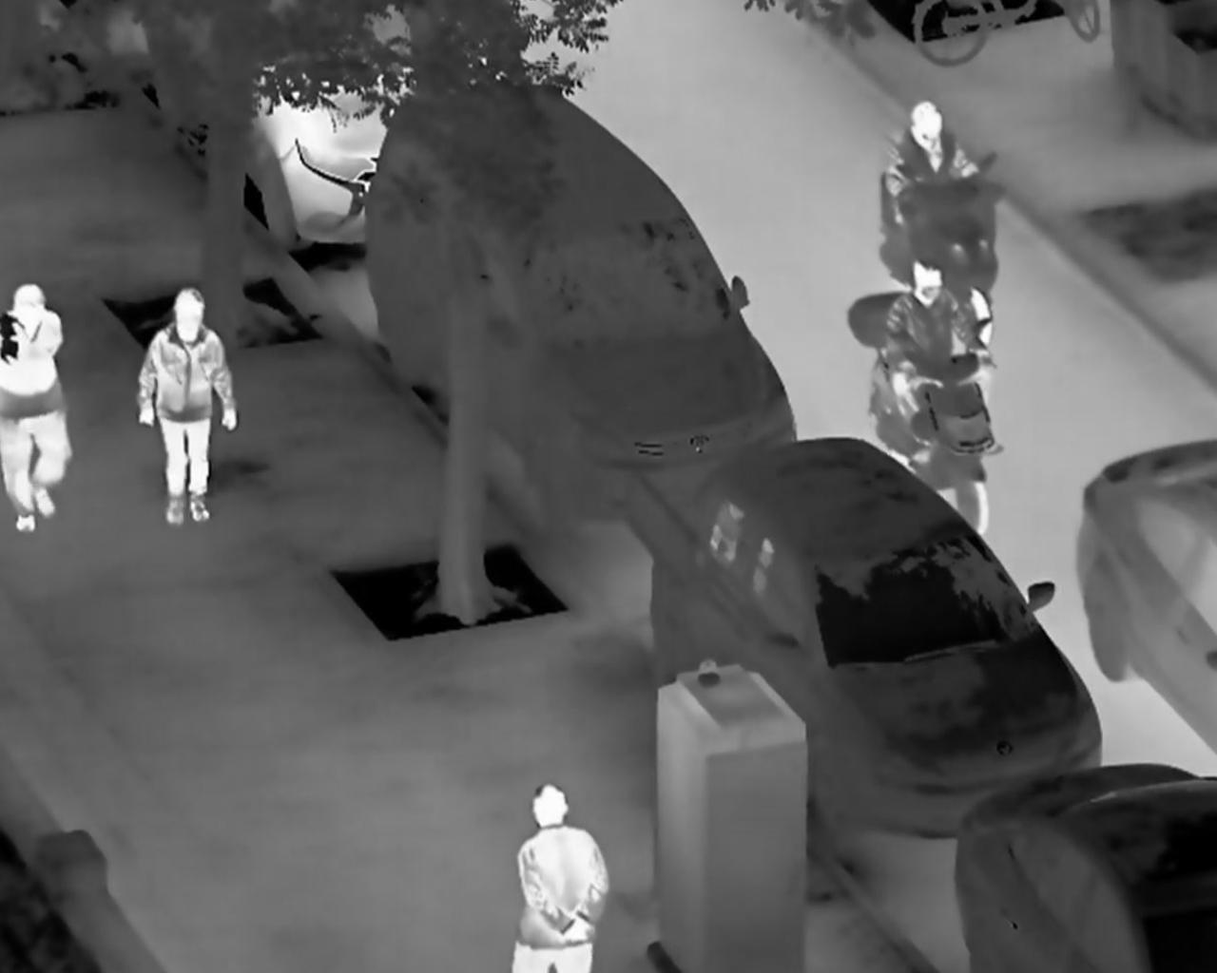person: (132, 286, 238, 528), (886, 256, 994, 467), (512, 783, 609, 973), (886, 101, 988, 235)
